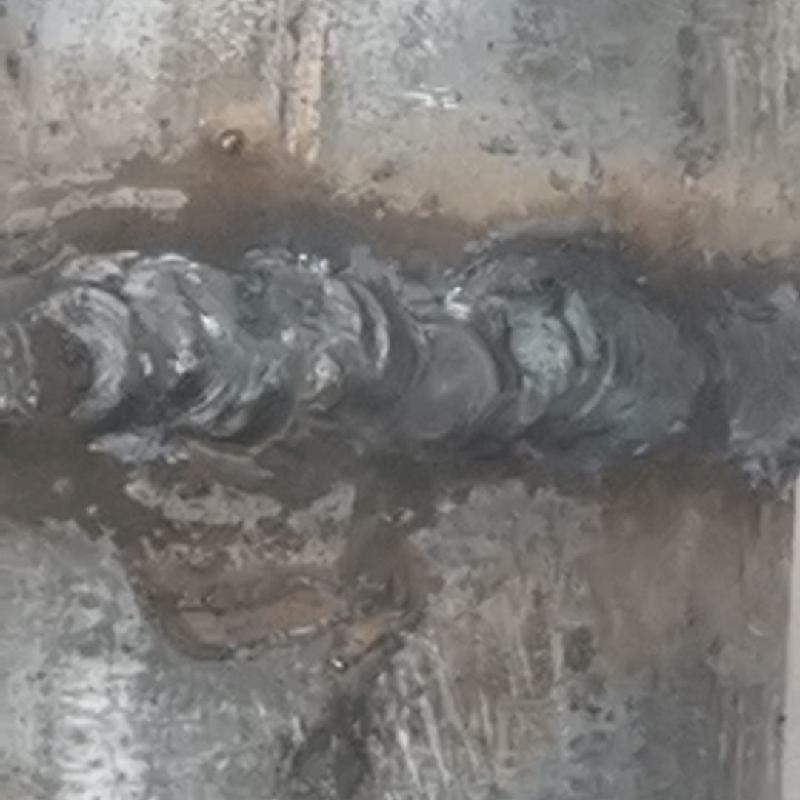good: (2, 226, 799, 489)
